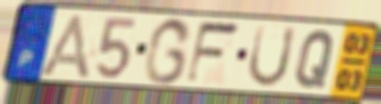5: (92, 16, 142, 81)
A: (36, 12, 93, 82)
F: (183, 20, 244, 87)
G: (141, 15, 195, 87)
Q: (293, 28, 338, 90)
U: (245, 23, 299, 89)
